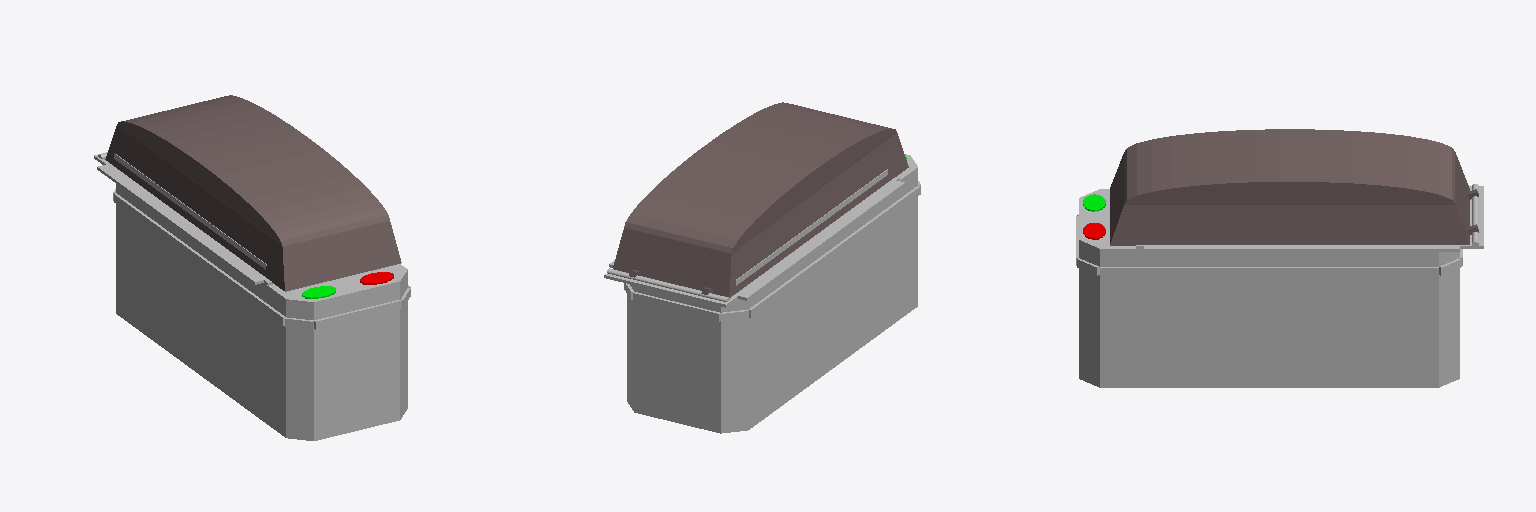
File: car_storage_part.obj
3 renders of one model, left to right at view 1: azimuth 30°, elevation 25°; view 2: azimuth 150°, elevation 25°; view 3: azimuth 270°, elevation 25°, orthographic.
Parts seen in each view (by area): view 1: placing-box, Lid; view 2: placing-box, Lid; view 3: placing-box, Lid.
Boxes of the visible parts, x1=… form: placing-box: x1=94, y1=152, x2=410, y2=440; Lid: x1=105, y1=95, x2=401, y2=291; placing-box: x1=604, y1=154, x2=920, y2=433; Lid: x1=613, y1=102, x2=908, y2=297; placing-box: x1=1076, y1=184, x2=1483, y2=387; Lid: x1=1110, y1=129, x2=1478, y2=245.
Bounding box in the file's own units: 0.1793 × 0.2519 × 0.4584.